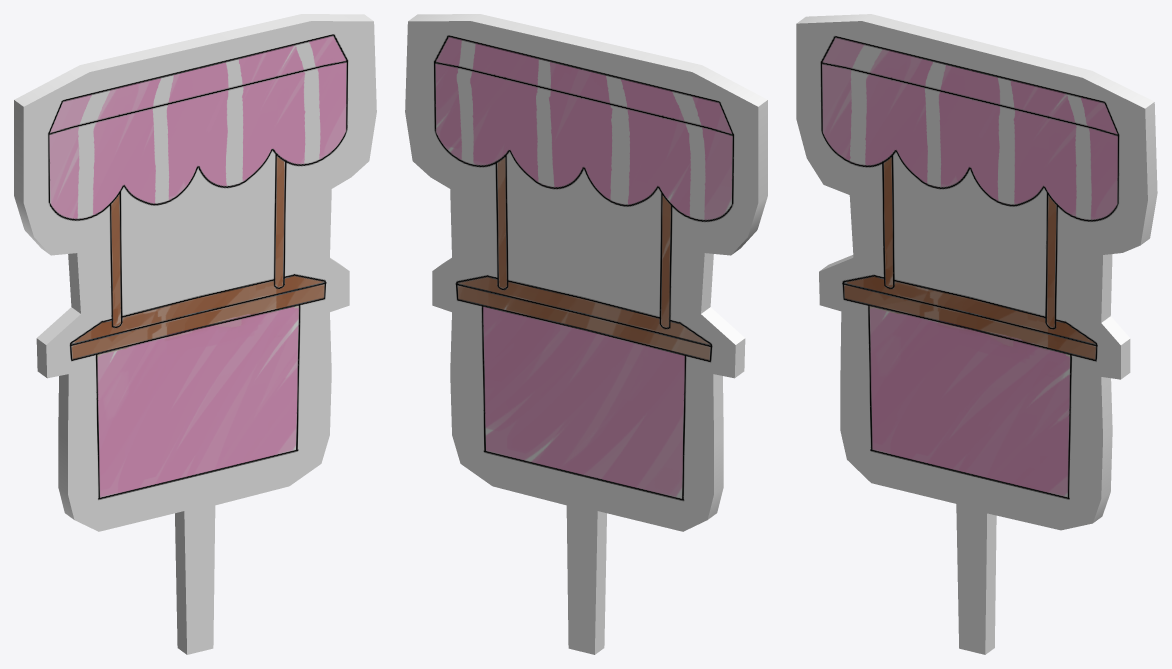
Rendered from pinkstall.fbx.
3 renders of one model, left to right at view 1: azimuth 30°, elevation 25°; view 2: azimuth 150°, elevation 25°; view 3: azimuth 330°, elevation 25°, orthographic.
Parts seen in each view (by area): view 1: stall; view 2: stall; view 3: stall.
Boxes of the visible parts, box(x1,y1,x2,y2) form: stall: box(14, 14, 376, 654); stall: box(405, 14, 767, 654); stall: box(796, 14, 1157, 654).
Size of the model in its own units: 17.35 by 28.47 by 0.8179.
